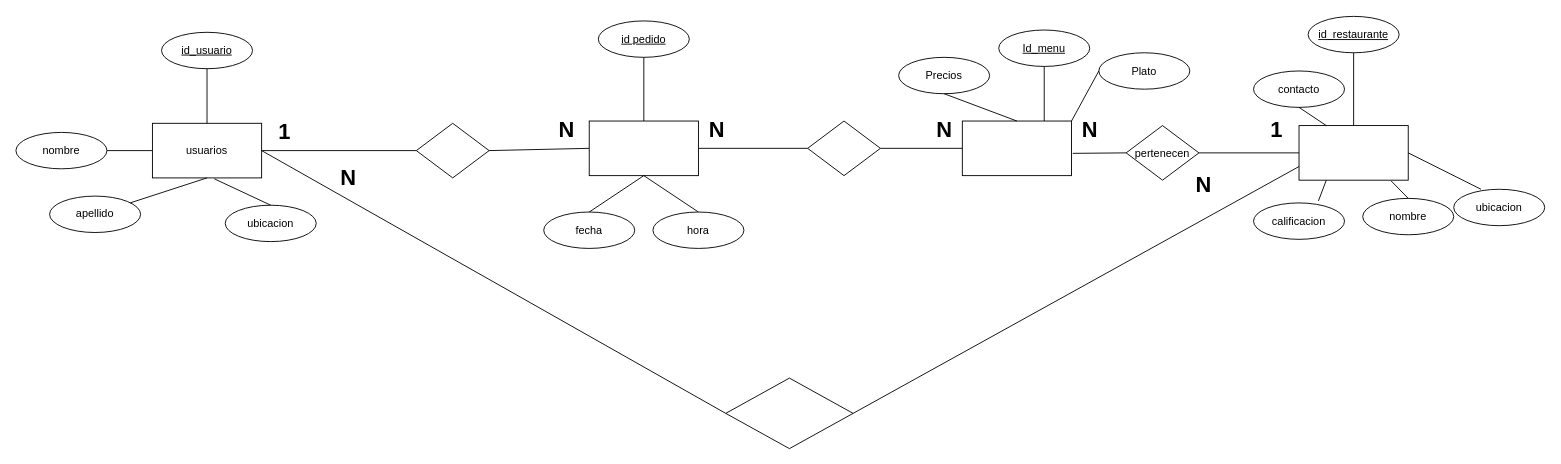
This 1561x464 diagram has some shape labels left out. The shapes that lost their labels are listed below. From the top down, each one's centre as x and y in pixels, then its label:
pixel 452 150: realizan
pixel 643 148: pedidos
pixel 843 148: poseen
pixel 1016 148: elementos_menu
pixel 1353 152: restaurantes
pixel 789 413: Restaurante favorito
